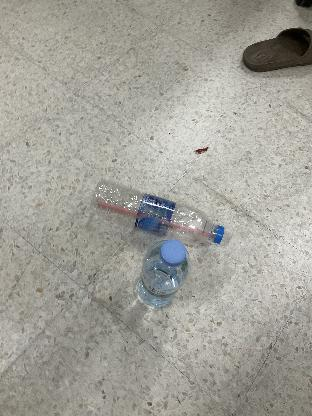Plastic Bottle: (91, 180, 225, 246), (137, 246, 191, 314)
